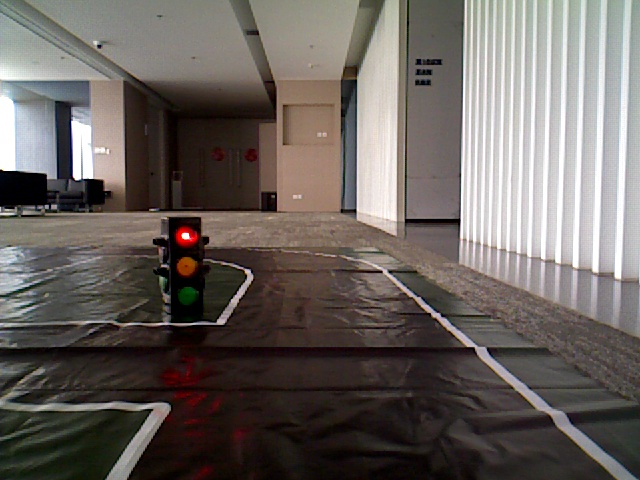red: (171, 220, 204, 311)
